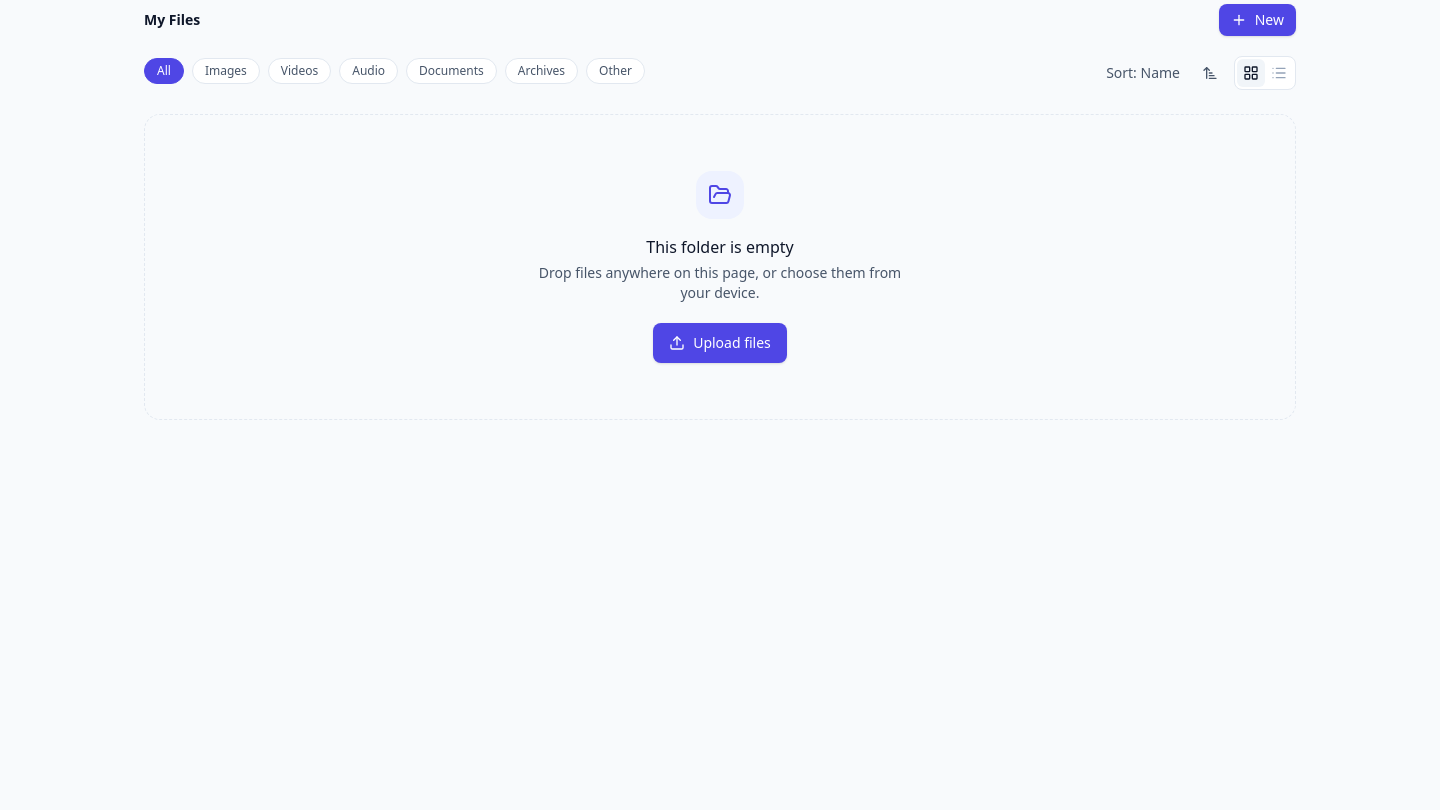
Test: new folder › shows "name taken" from the server on the field
Check: the heading "This folder is empty" is shown, box [646, 235, 794, 259]
Click the button "New" at (1257, 20), box [1219, 4, 1296, 36]
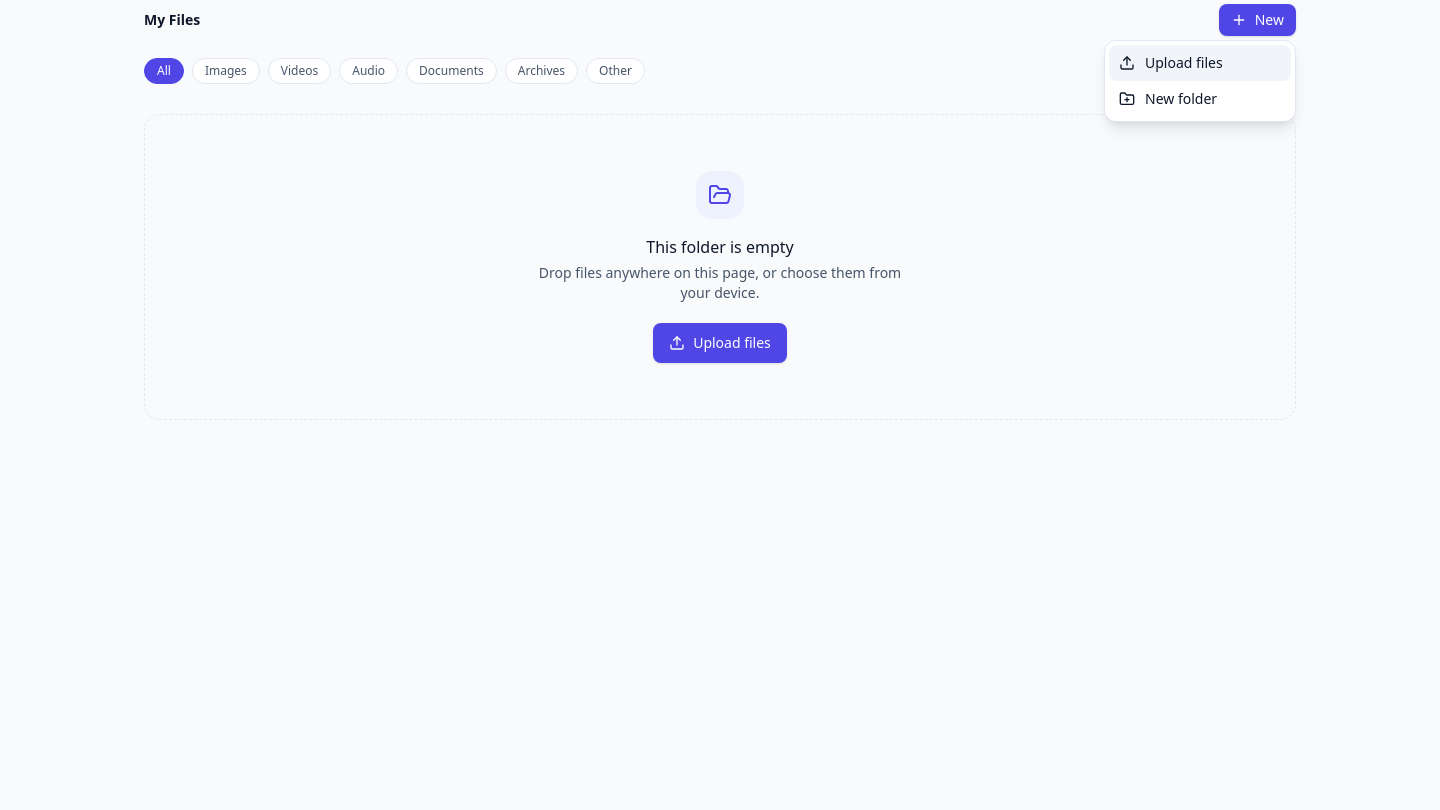
Click the menu item "New folder" at (1200, 99), box [1109, 81, 1291, 117]
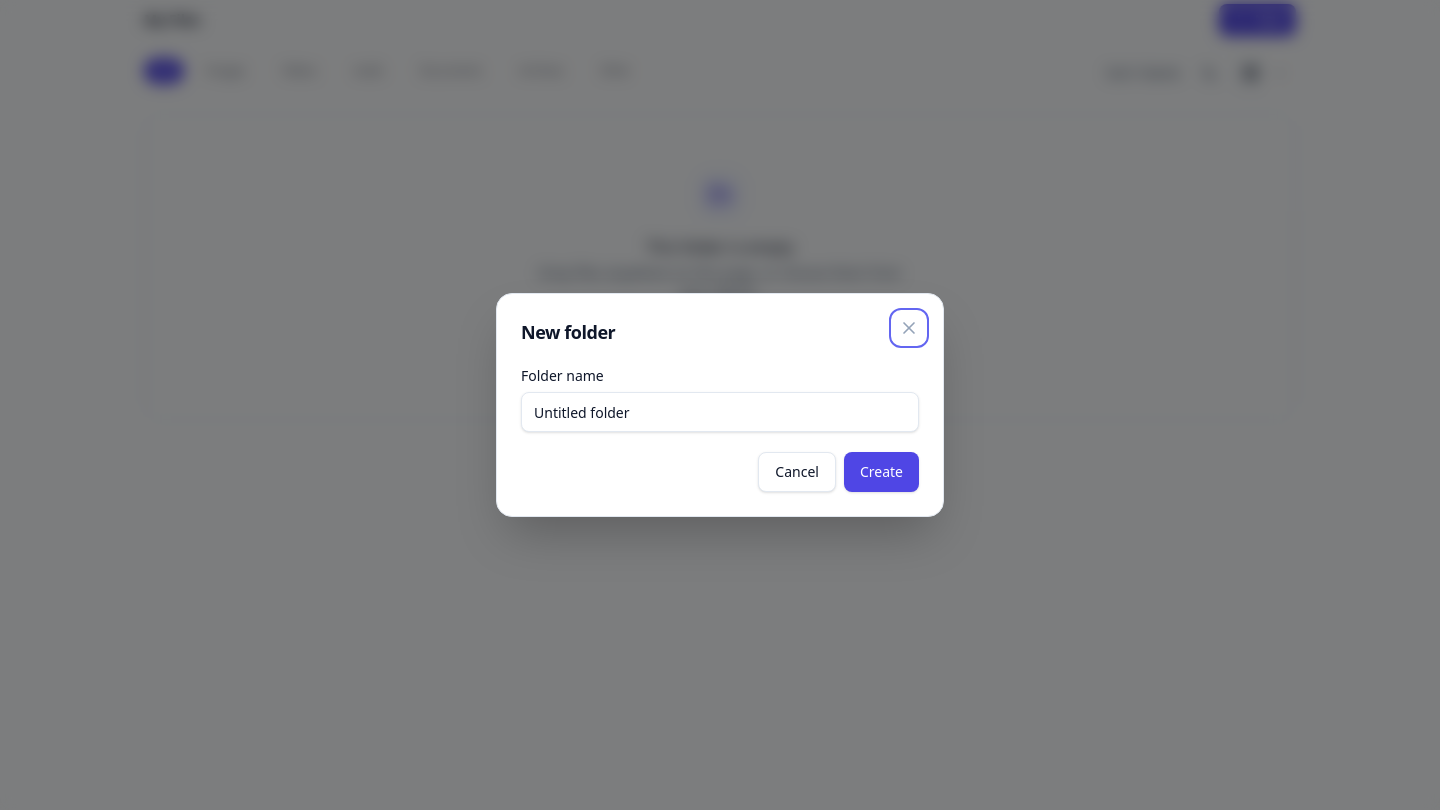
Click the button "Create" at (881, 472), box [844, 452, 919, 492]
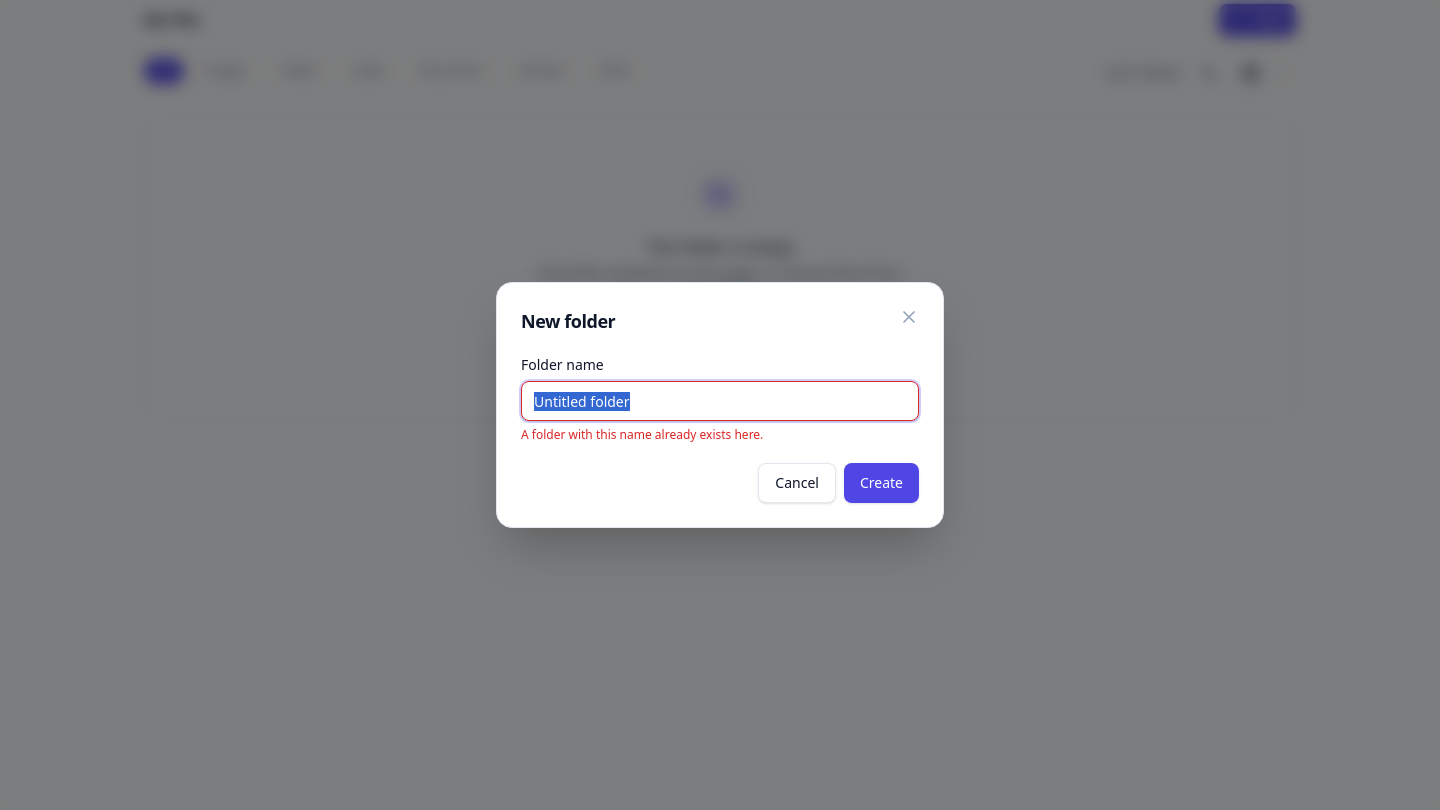
Check: the text "A folder with this name already exists here." is shown, box [521, 426, 763, 443]
